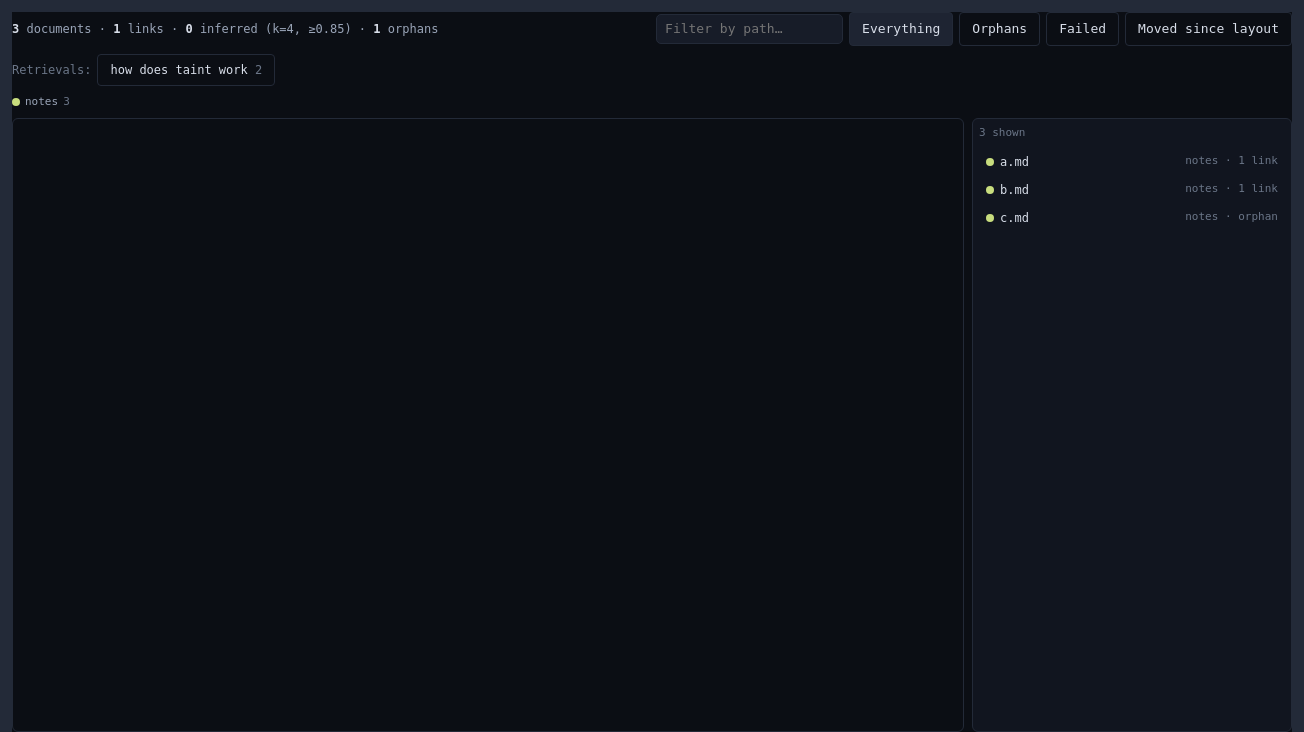
Test: KnowledgeGraph › the use question — what was retrieved, and from where › says when a cited document has left the index instead of quietly dropping it
Click the button "how does taint work 2" at (186, 70), box [98,54,275,86]
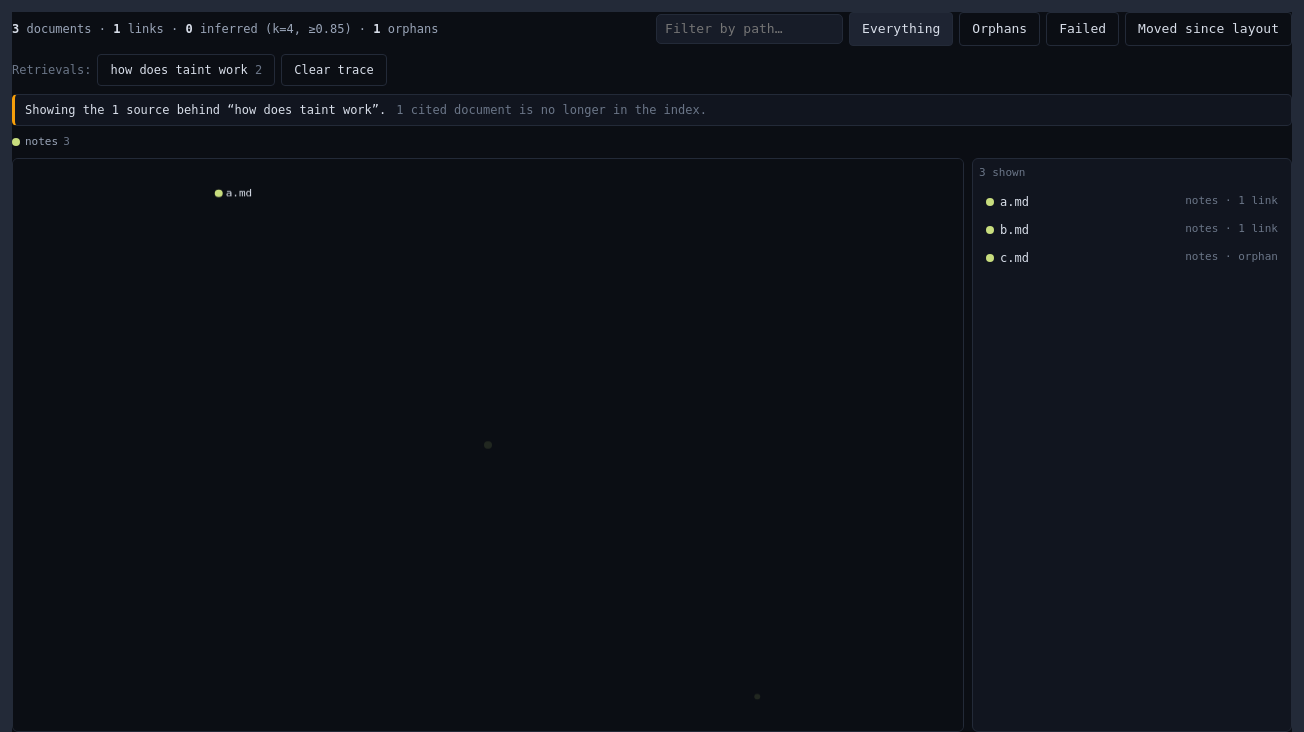
Expected: the text "1 cited document is no longer in the index." is shown, [396,100,707,118]
